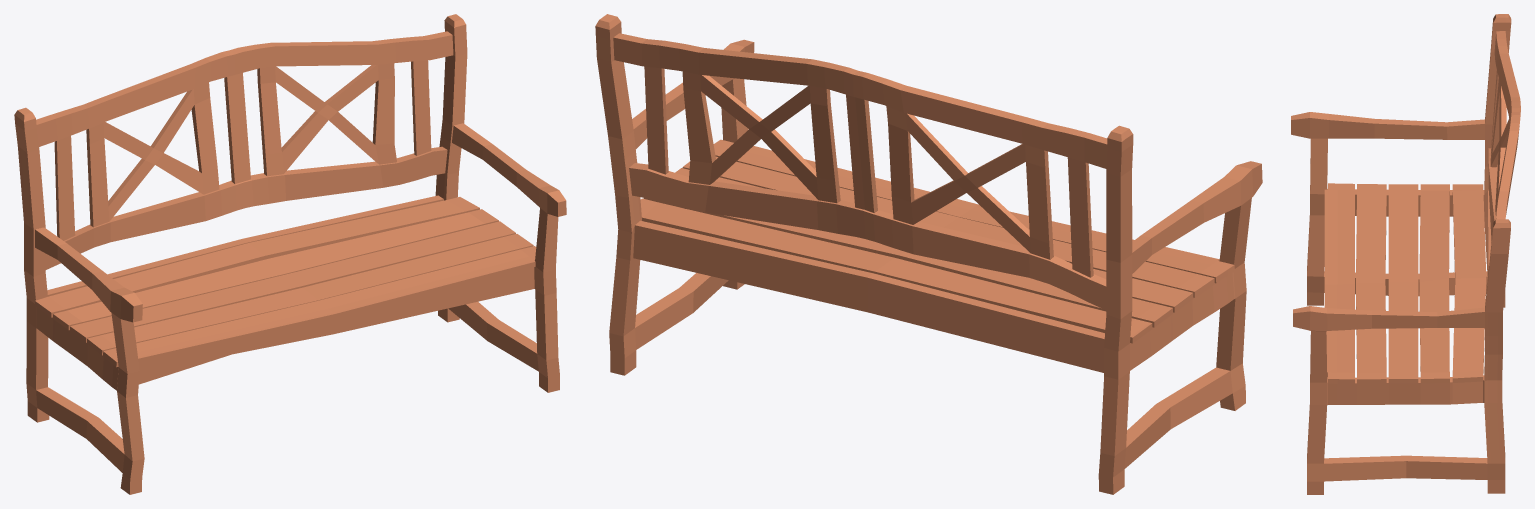
The model's file is Bench1.fbx.
3 renders of one model, left to right at view 1: azimuth 30°, elevation 25°; view 2: azimuth 150°, elevation 25°; view 3: azimuth 270°, elevation 25°, orthographic. The views are drawn at different scales.
Parts seen in each view (by area): view 1: Cube.275; view 2: Cube.275; view 3: Cube.275.
Part boxes in pixels (x1,y1,x2,y2): Cube.275: (14, 14, 566, 494); Cube.275: (595, 14, 1262, 494); Cube.275: (1291, 14, 1520, 494).
Size of the model in its own units: 604 by 400 by 291.
